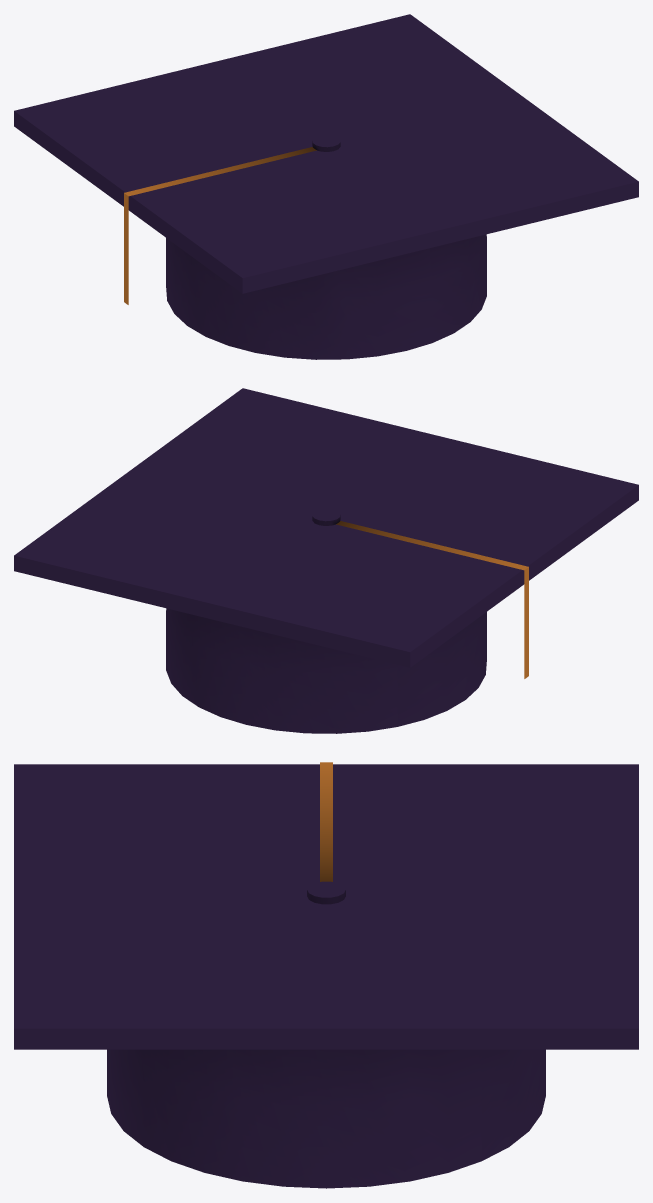
File: Hat.glb
3 views of the same model, one above another, from view 1: azimuth 30°, elevation 25°; view 2: azimuth 150°, elevation 25°; view 3: azimuth 270°, elevation 25° (orthographic). The views are drawn at different scales.
Visible parts, largest first — view 1: Hat; view 2: Hat; view 3: Hat.
Boxes of the visible parts, x1,y1,x2,y2 form: Hat: (14, 14, 638, 359); Hat: (14, 388, 638, 733); Hat: (14, 762, 638, 1188).
Size of the model in its own units: 0.3521 by 0.1274 by 0.3503.
